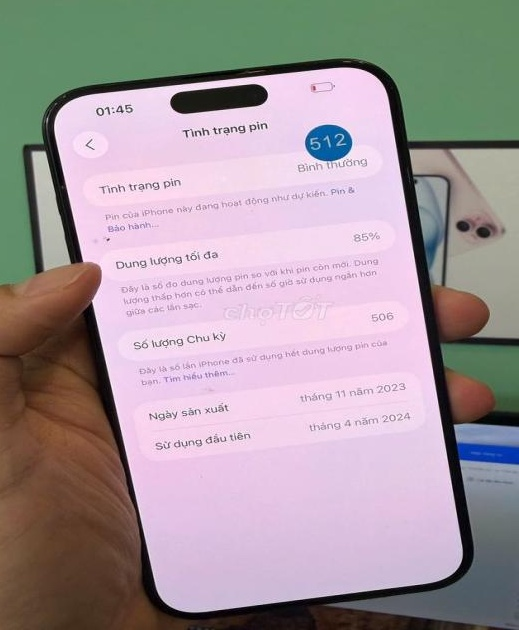screen_defect: (74, 226, 124, 256)
